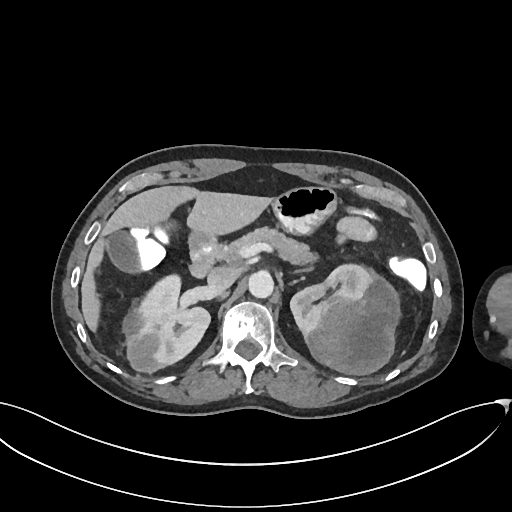Lesion: (322, 271, 398, 375)
